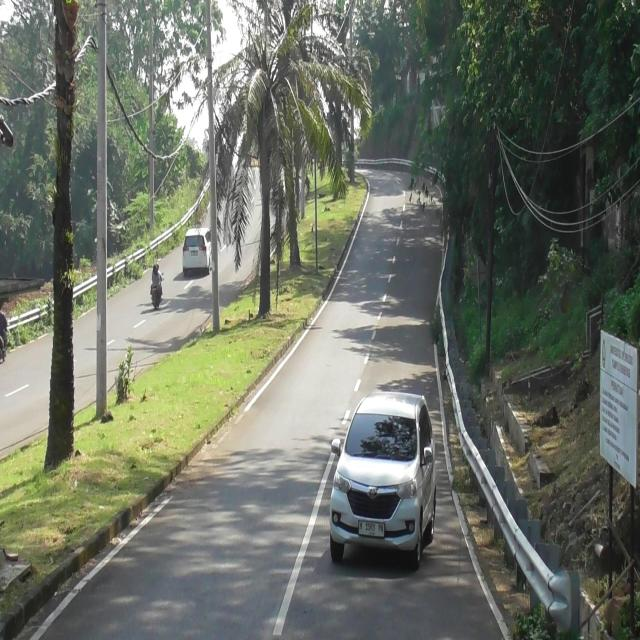motorcycle: (151, 288, 161, 310)
person: (150, 264, 160, 286), (156, 262, 160, 271)
rider_region: (148, 261, 162, 313)
